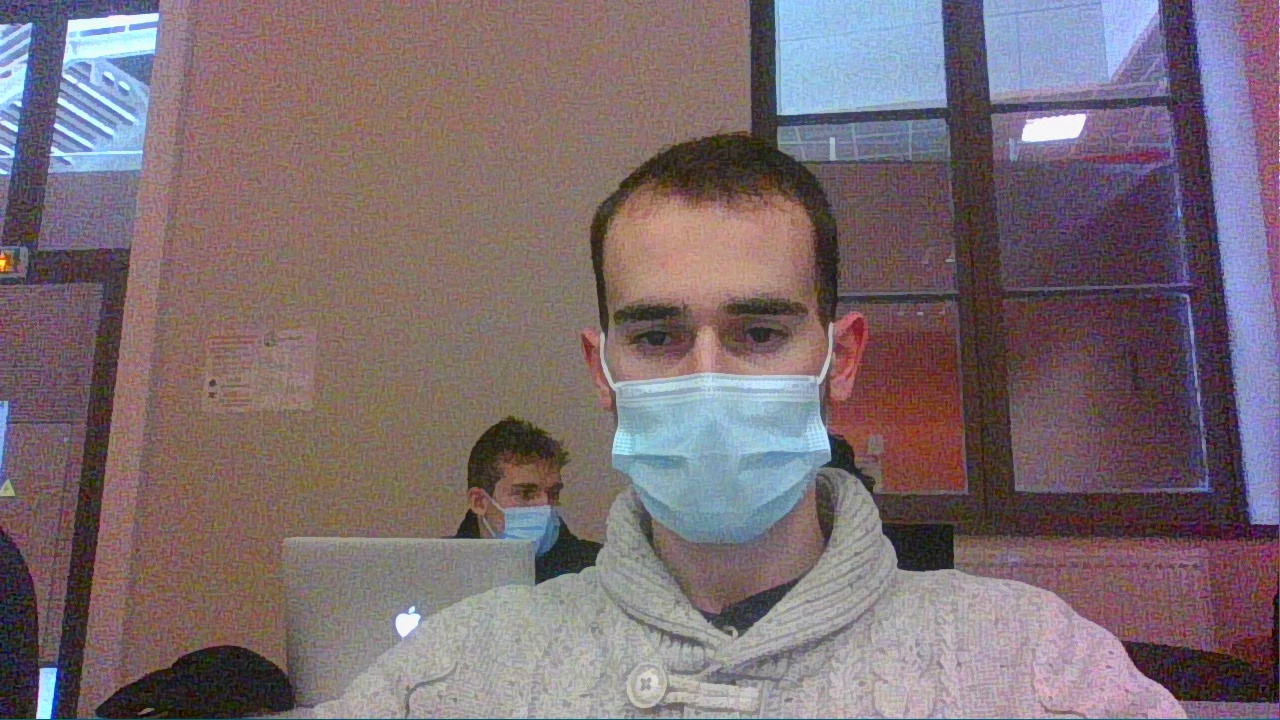mask: (576, 126, 859, 528), (465, 419, 560, 553)
